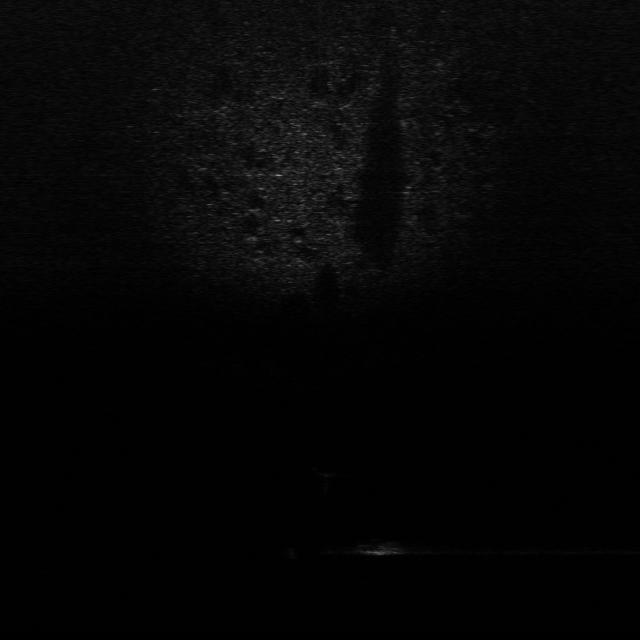ball: (312, 457, 342, 477)
metal bucket: (348, 536, 407, 558)
